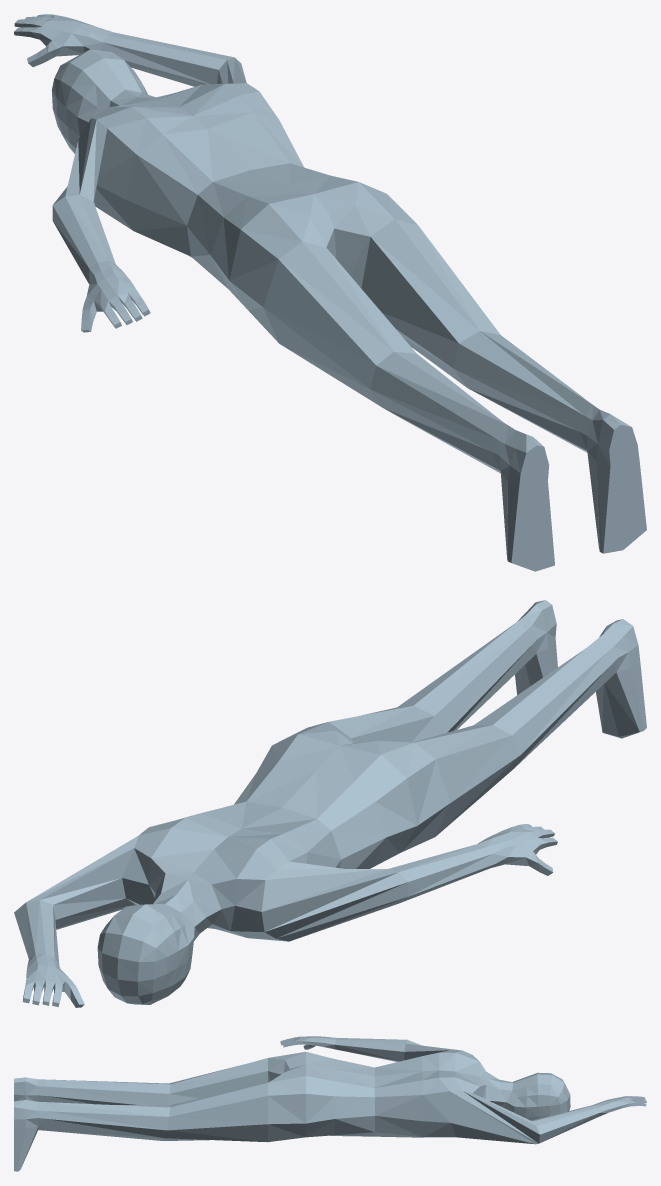
The model's file is downHuman.obj.
3 views of the same model, one above another, from view 1: azimuth 30°, elevation 25°; view 2: azimuth 150°, elevation 25°; view 3: azimuth 270°, elevation 25° (orthographic). The views are drawn at different scales.
Parts seen in each view (by area): view 1: BaseHuman; view 2: BaseHuman; view 3: BaseHuman.
Part boxes in pixels (x1,y1,x2,y2): BaseHuman: (14, 14, 646, 571); BaseHuman: (14, 600, 646, 1007); BaseHuman: (14, 1036, 646, 1171).
Size of the model in its own units: 3.39 by 1.52 by 9.06.
1 material, 1 textured.
